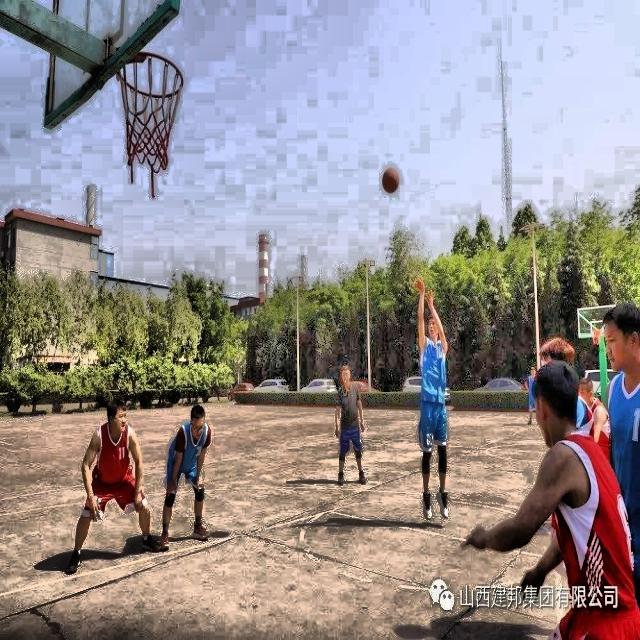board: (382, 167, 399, 193)
rim: (119, 53, 183, 172)
